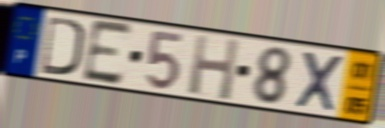5: (142, 29, 188, 92)
8: (251, 45, 293, 107)
D: (39, 14, 85, 79)
E: (80, 17, 135, 88)
H: (186, 33, 242, 104)
X: (293, 48, 346, 115)
